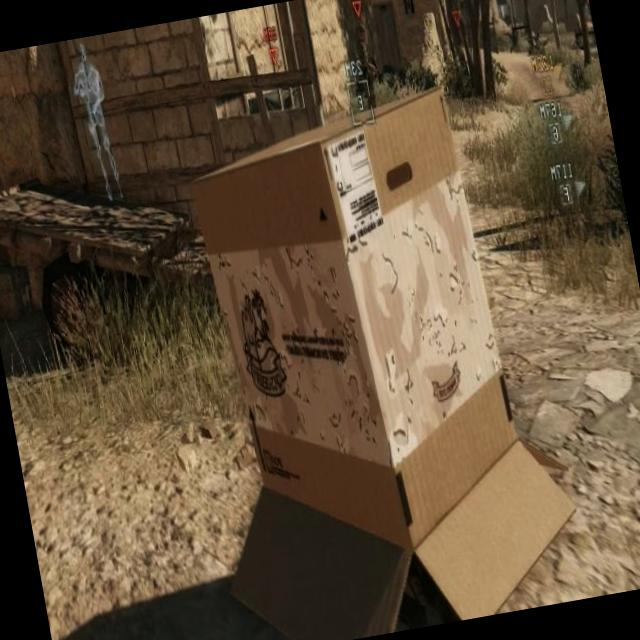snake-in-cardboard-boxes: (147, 66, 594, 640)
